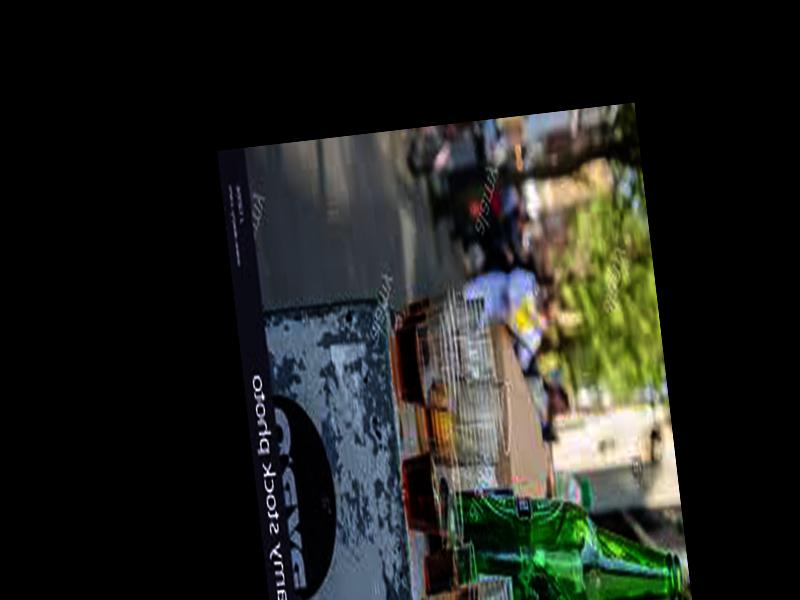Beer: (429, 464, 686, 600)
